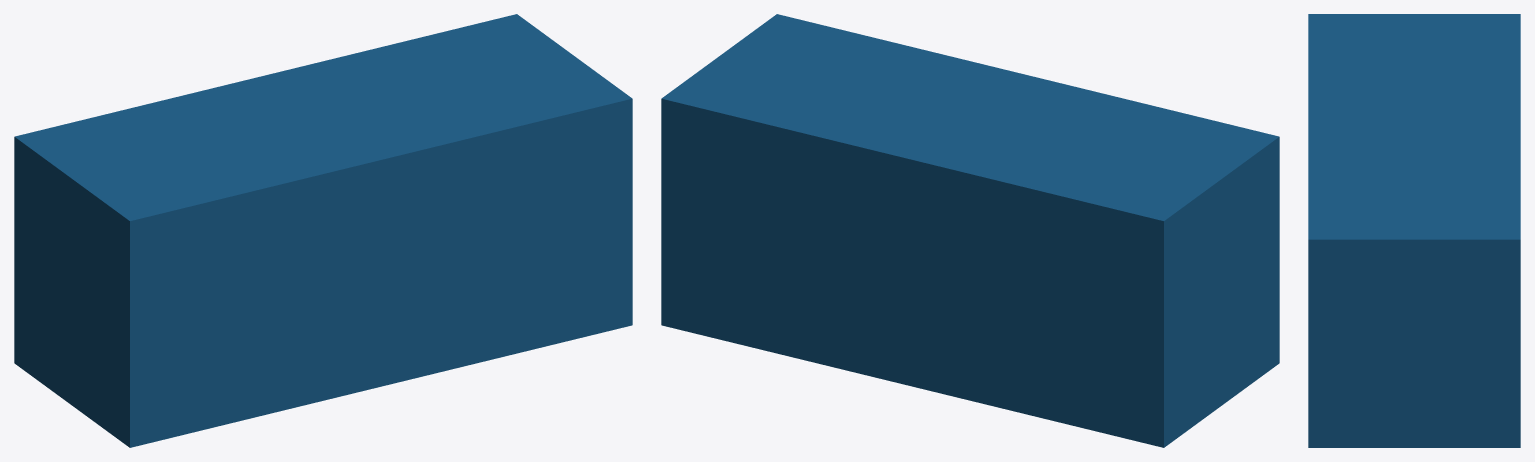
Rendered from container20_dry.dae.
3 views of the same model, side by side, from view 1: azimuth 30°, elevation 25°; view 2: azimuth 150°, elevation 25°; view 3: azimuth 270°, elevation 25° (orthographic). The views are drawn at different scales.
Visible parts, largest first — view 1: corrugated_shell; view 2: corrugated_shell; view 3: corrugated_shell.
Part boxes in pixels (left/top/right/bottom): corrugated_shell: left=14, top=14, right=632, bottom=447; corrugated_shell: left=661, top=14, right=1279, bottom=447; corrugated_shell: left=1308, top=14, right=1520, bottom=447.
Size of the model in its own units: 5.92 by 2.36 by 2.55.
